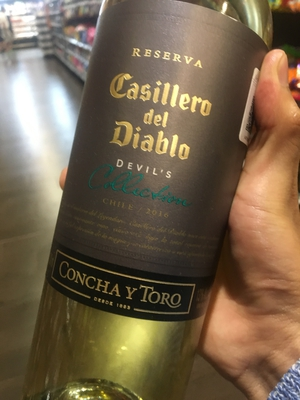casillero del diablo devils collection verde: (41, 3, 260, 383)
